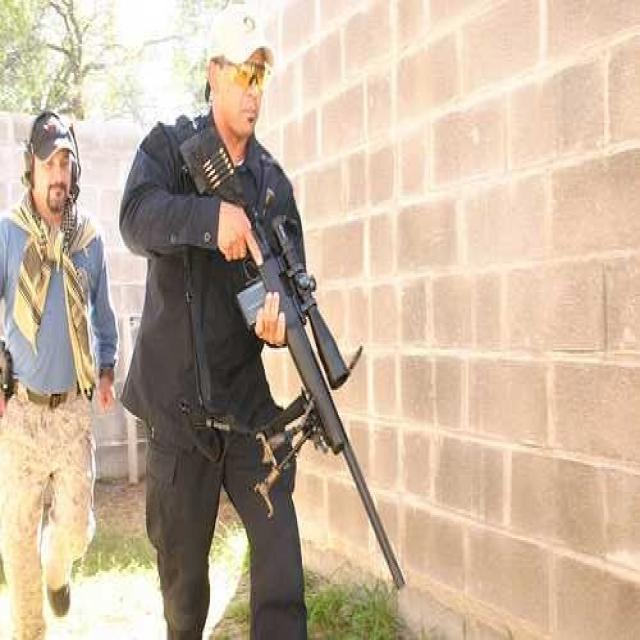heavyweapon: (170, 128, 431, 614)
